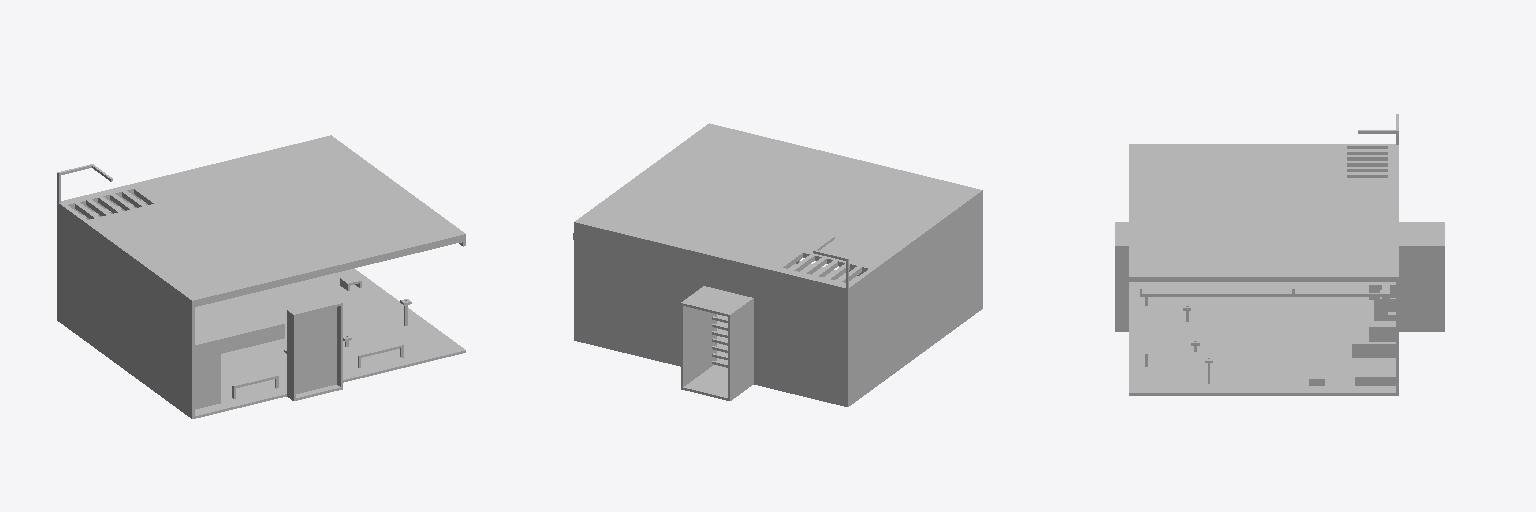
The model's file is Awaken.obj.
3 renders of one model, left to right at view 1: azimuth 30°, elevation 25°; view 2: azimuth 150°, elevation 25°; view 3: azimuth 270°, elevation 25°, orthographic.
Visible parts, largest first — view 1: object 1; view 2: object 1; view 3: object 1.
Boxes of the visible parts, box(x1,y1,x2,y2) form: object 1: box(57, 135, 465, 418); object 1: box(573, 123, 982, 406); object 1: box(1115, 114, 1444, 395).
Bounding box in the file's own units: 11.8 × 6 × 12.1.